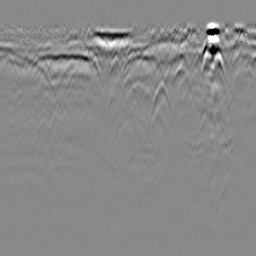cavity: (118, 70, 140, 110)
